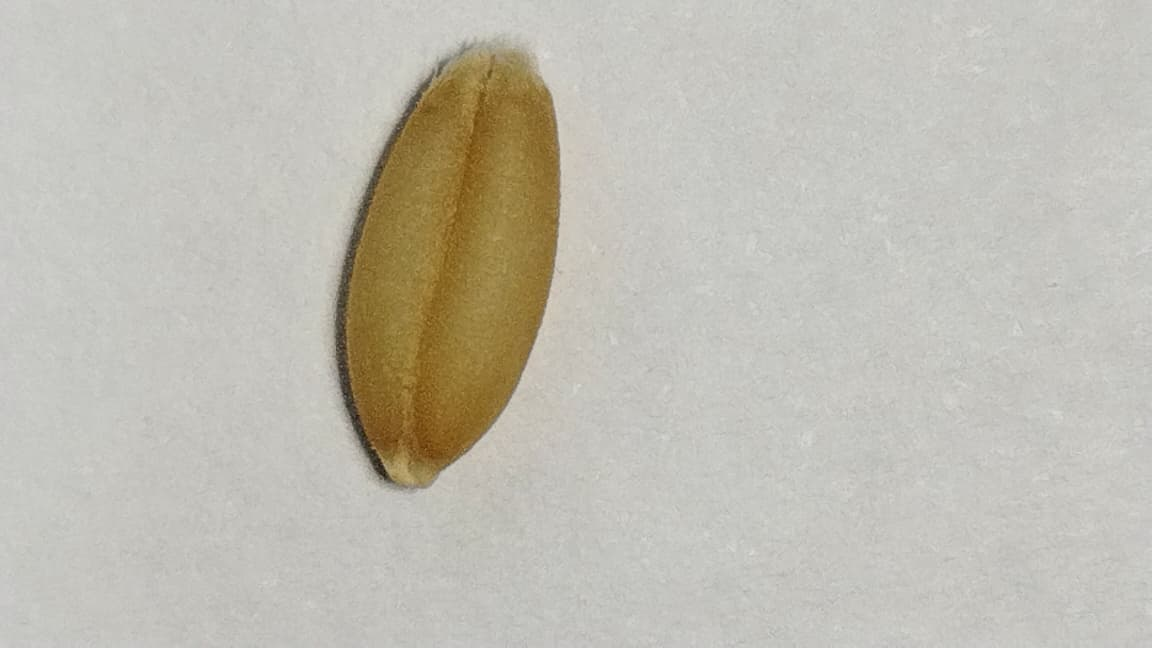healthy: (344, 51, 562, 483)
